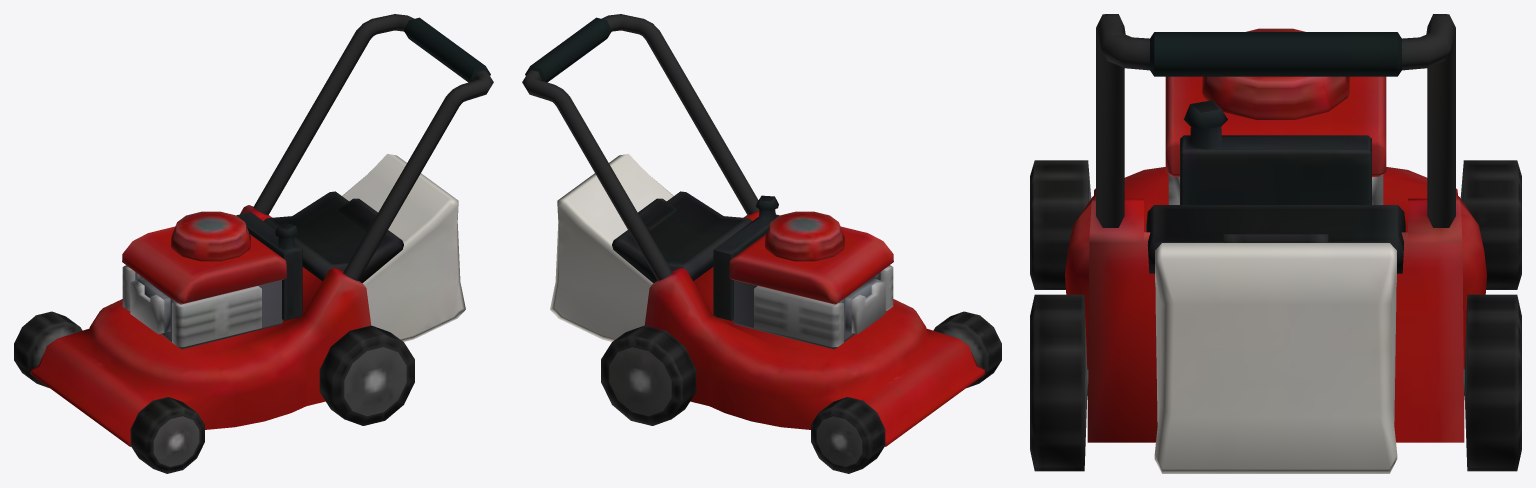
3 views of the same model, side by side, from view 1: azimuth 30°, elevation 25°; view 2: azimuth 150°, elevation 25°; view 3: azimuth 270°, elevation 25° (orthographic). The views are drawn at different scales.
Size of the model in its own units: 9.95 by 7.48 by 6.07.
1 material, 1 textured.
